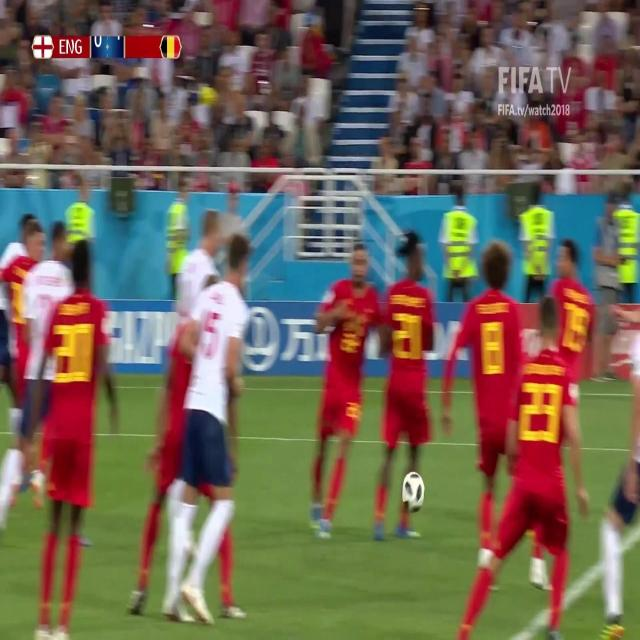ball: (399, 466, 429, 513)
player: (457, 296, 608, 636), (159, 230, 263, 622), (33, 210, 120, 632), (448, 242, 534, 583), (299, 239, 383, 541), (370, 227, 446, 537), (590, 228, 638, 636), (3, 198, 47, 522), (542, 234, 594, 450)
